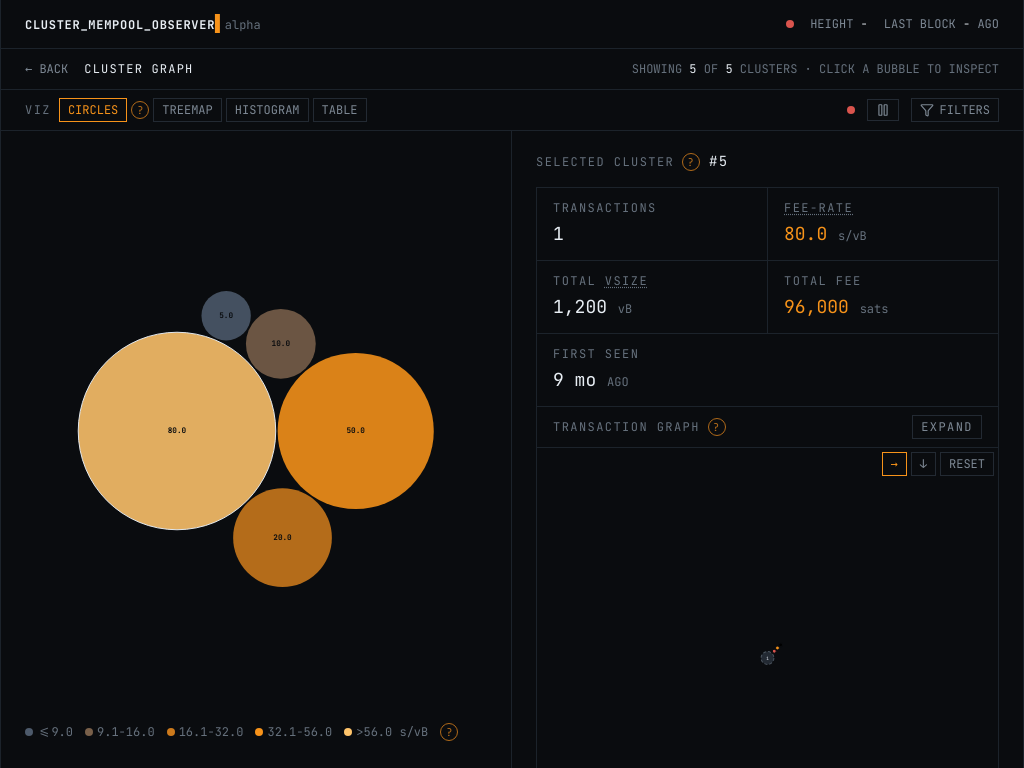
Test: Clusters page: table viz › renders a row for every cluster in the feed
The image size is (1024, 768).
Expected: the text "CLUSTER GRAPH" is shown, [84, 61, 193, 77]
Click the button "TABLE".
click(340, 110)  # box [312, 98, 366, 122]
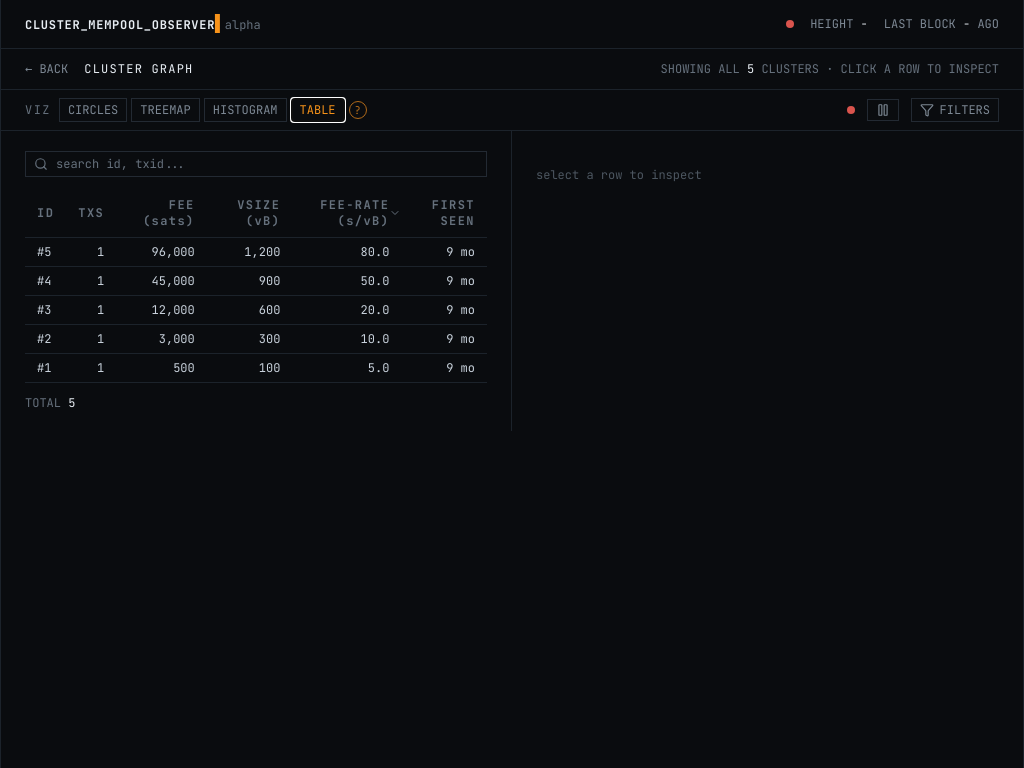
Now the text "#1" is shown, box [37, 360, 51, 376]
Now the text "#2" is shown, box [37, 331, 51, 347]
Now the text "#3" is shown, box [37, 302, 51, 318]
